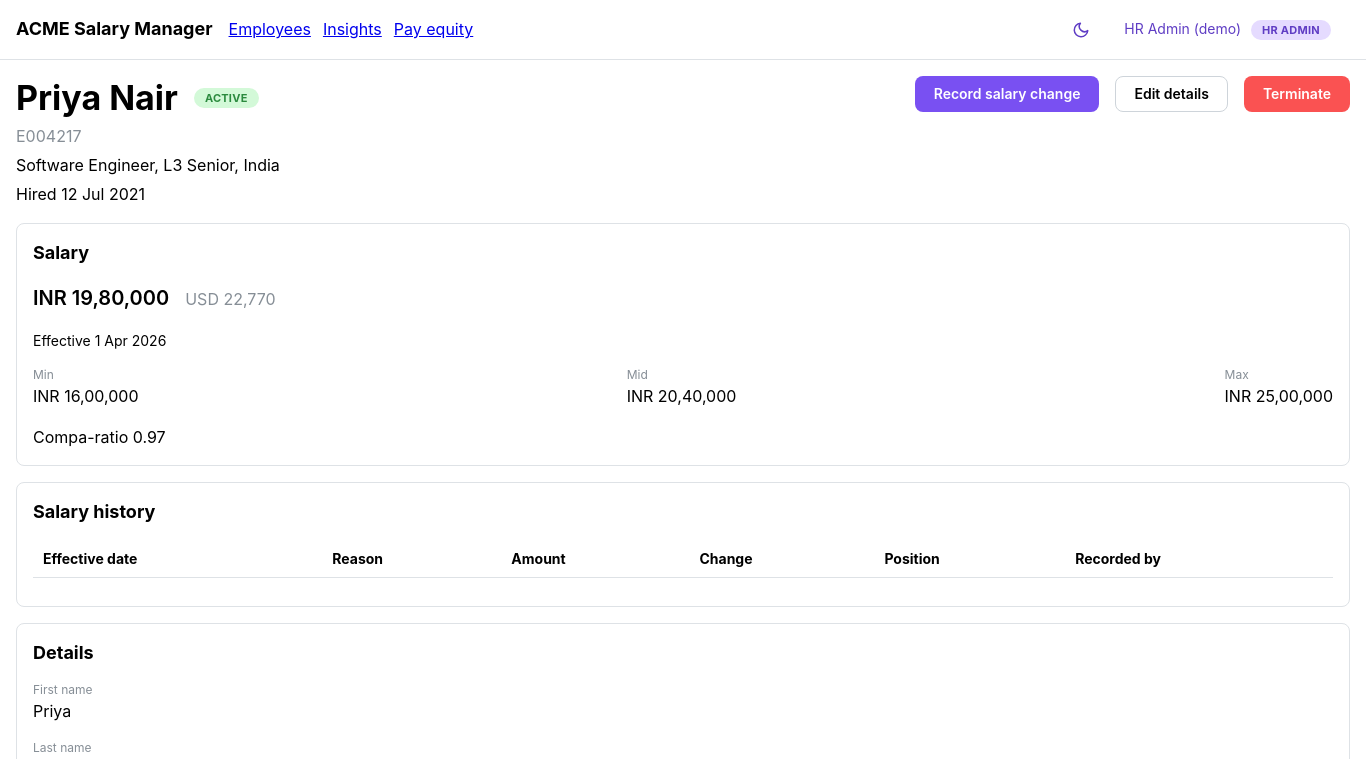
record salary change modal (04 section 8.5 S-6) › keeps the current level selected for a correction
What coordinates should you click on to do the following:
click the button "Record salary change"
I would click on:
 (1007, 94)
Its box is [915,76,1100,112].
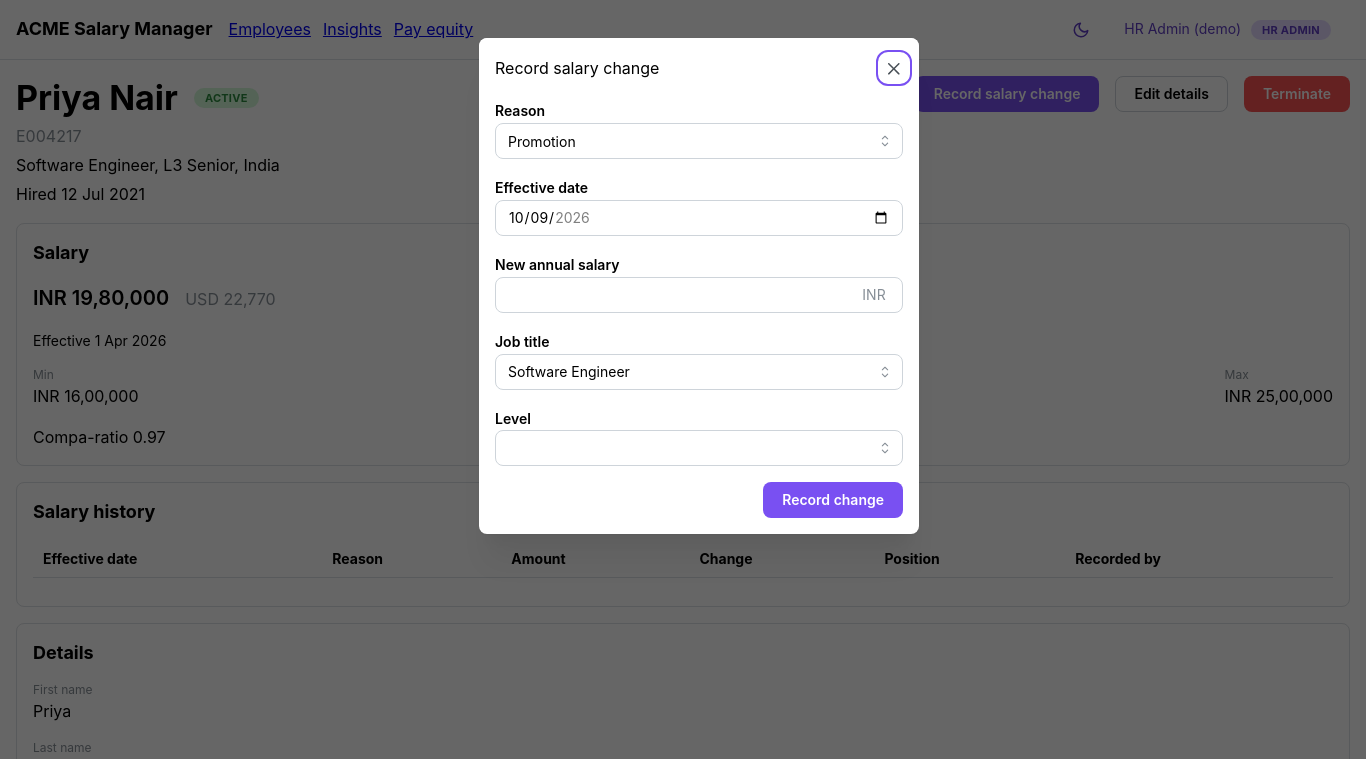
What coordinates should you click on to do the following:
click the dropdown labelled "Reason"
I would click on:
 (699, 141)
Its box is [495,123,903,159].
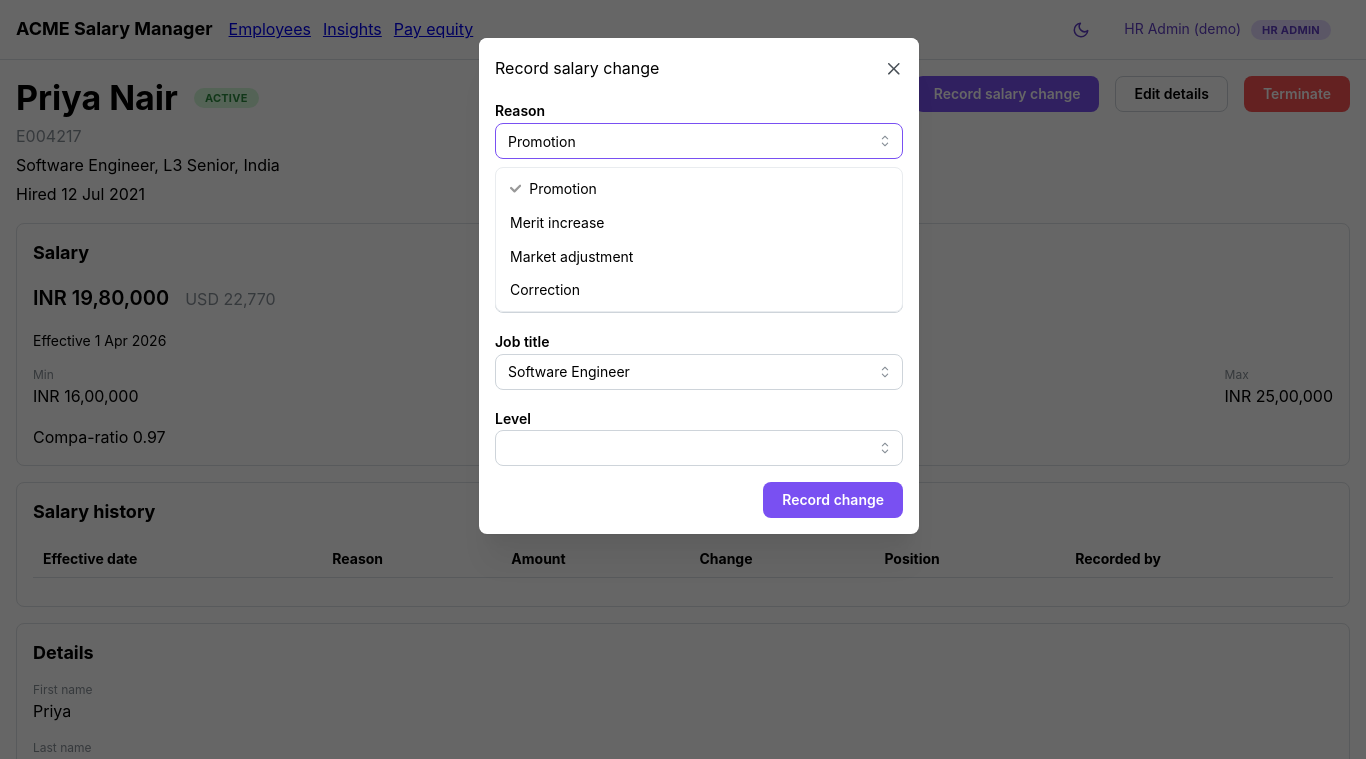
What coordinates should you click on to do the following:
click the option "Correction"
I would click on:
 (545, 290)
Its box is [510,281,580,298].
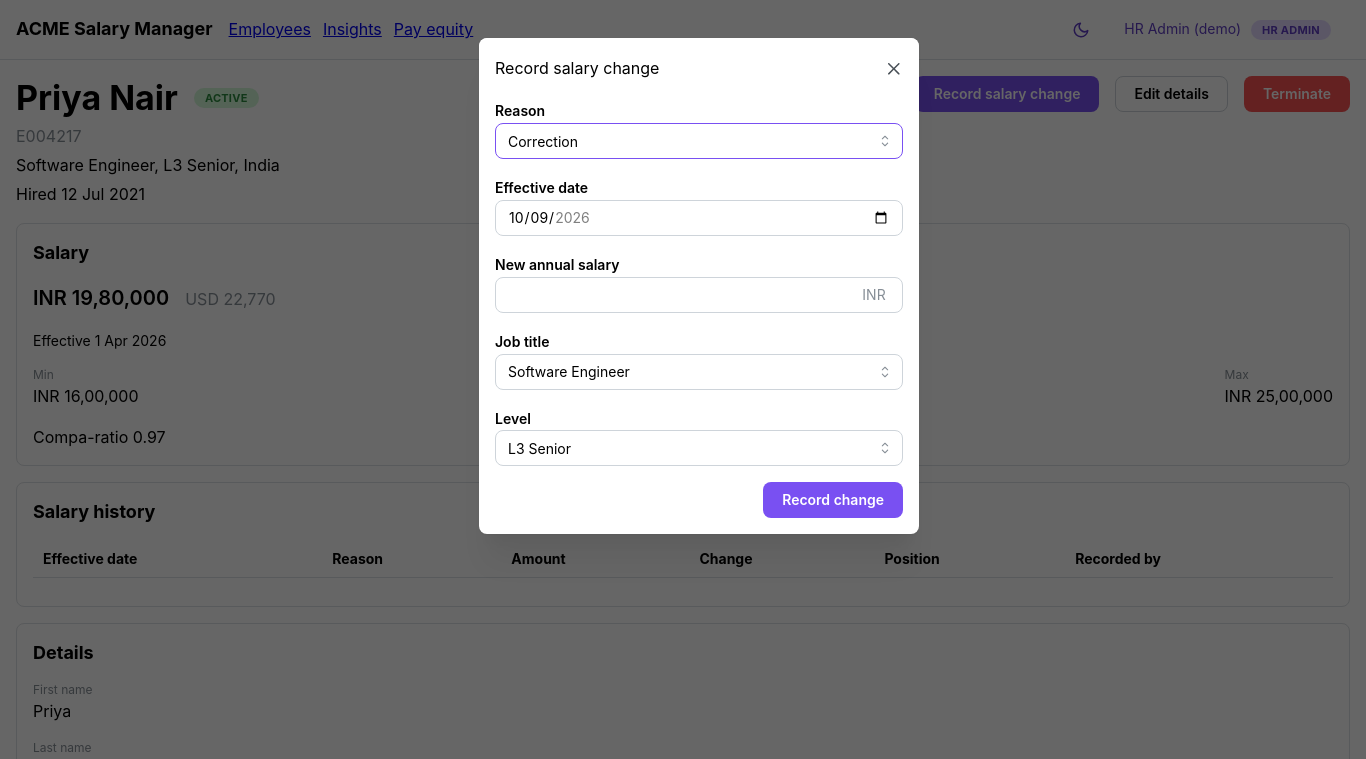
Result: the dropdown labelled "Level" is enabled at [495,430,903,466]
Result: the dropdown labelled "Level" holds "L3 Senior" at [495,430,903,466]
